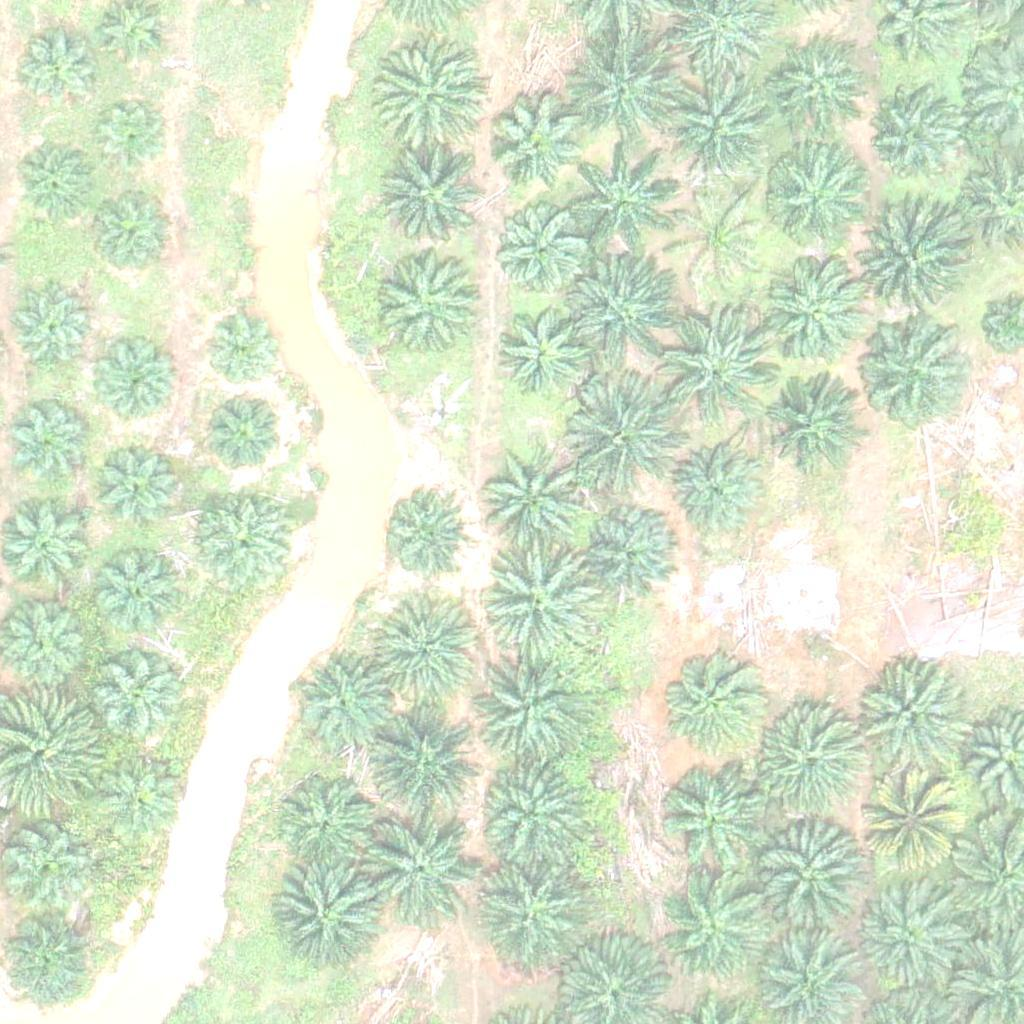Kelapa_Sawit: (480, 752, 593, 866), (568, 380, 681, 494), (471, 657, 584, 771), (369, 593, 482, 707), (755, 825, 868, 938), (657, 767, 770, 880), (268, 864, 381, 977), (855, 205, 968, 318), (569, 254, 682, 367), (371, 35, 484, 148), (660, 872, 772, 986), (763, 255, 875, 369), (665, 79, 777, 193), (658, 644, 770, 758), (368, 701, 480, 815), (378, 144, 490, 258), (472, 855, 584, 968), (360, 812, 472, 925), (854, 663, 966, 776), (744, 707, 856, 820), (857, 321, 969, 434), (661, 310, 773, 423), (566, 141, 678, 254), (570, 26, 682, 139), (482, 434, 594, 547), (486, 548, 598, 661), (853, 884, 953, 985), (275, 774, 375, 875), (862, 87, 962, 188), (671, 183, 771, 284), (578, 501, 678, 602), (488, 201, 588, 302), (492, 297, 592, 398), (381, 253, 481, 354), (194, 486, 294, 587), (86, 547, 186, 648), (294, 654, 394, 755), (859, 778, 959, 878), (764, 374, 864, 474), (768, 45, 868, 145), (761, 146, 861, 246), (667, 447, 767, 547), (485, 94, 585, 194), (13, 23, 101, 112), (83, 190, 171, 278), (97, 751, 185, 839), (6, 400, 94, 488), (382, 487, 469, 575), (12, 138, 99, 226), (5, 286, 92, 374), (94, 343, 181, 431), (201, 389, 288, 477), (95, 659, 182, 747), (90, 438, 177, 526), (95, 103, 170, 179), (204, 316, 279, 392)
